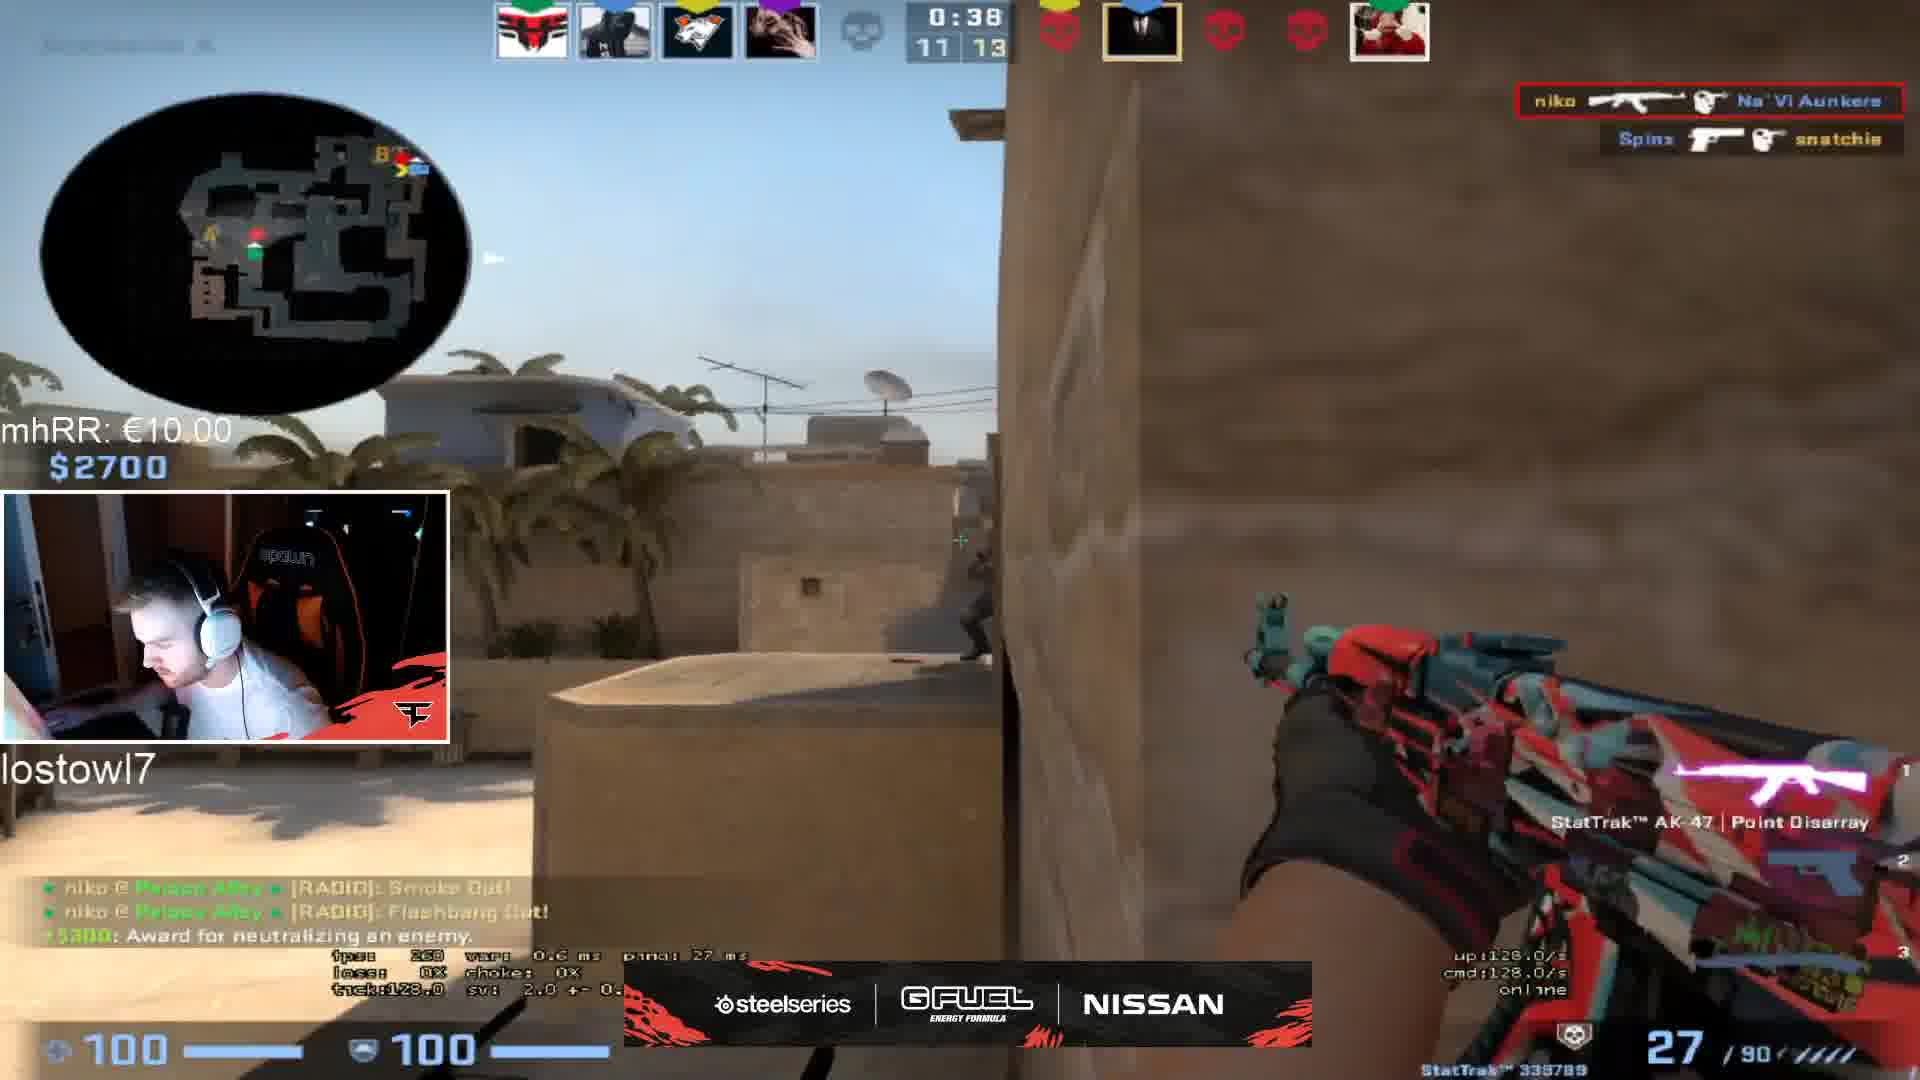enemy: (953, 545, 1000, 671)
